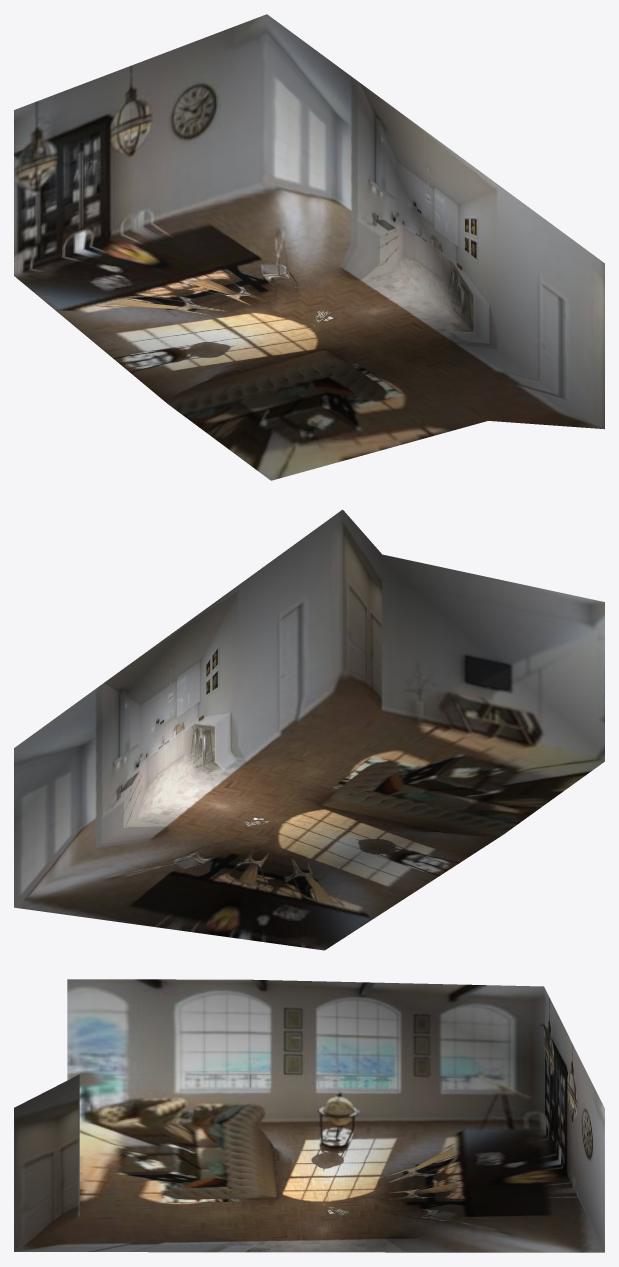
Rendered from combined.glb.
The picture shows the model from 3 angles, top to bottom: view 1: azimuth 30°, elevation 25°; view 2: azimuth 150°, elevation 25°; view 3: azimuth 270°, elevation 25°; orthographic projection. The views are drawn at different scales.
Visible parts, largest first — view 1: Node; view 2: Node; view 3: Node.
Boxes of the visible parts, x1,y1,x2,y2 form: Node: (14,14,604,480); Node: (14,509,604,950); Node: (14,979,604,1252).
Size of the model in its own units: 8.17 by 4.24 by 15.76.
Materials: 1 (1 with a texture image).
